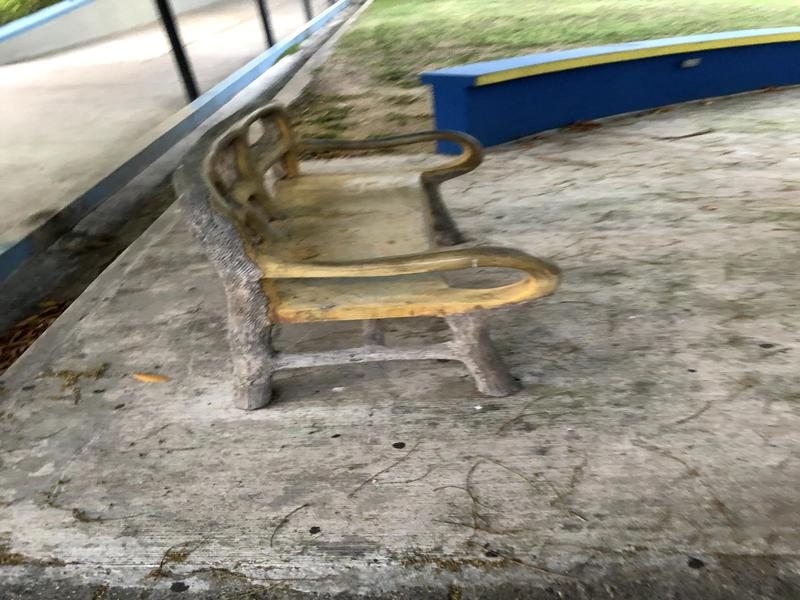18.0050864_-76.7496363_bench: (151, 86, 570, 421)
